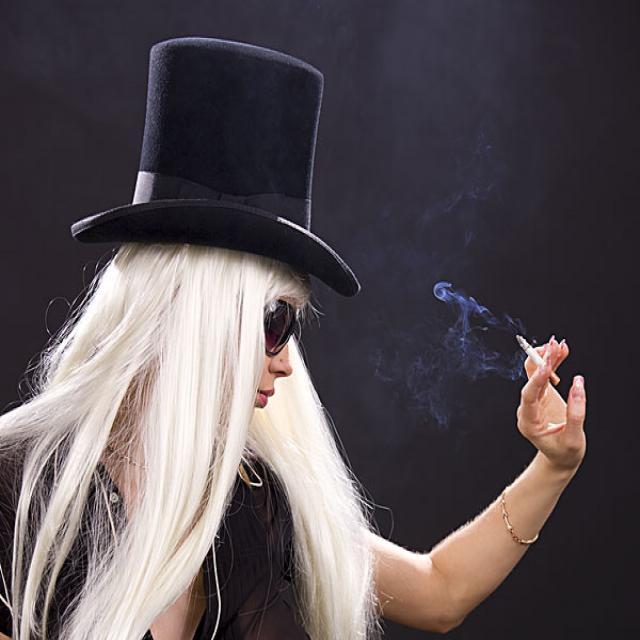smoking: (514, 337, 561, 385)
